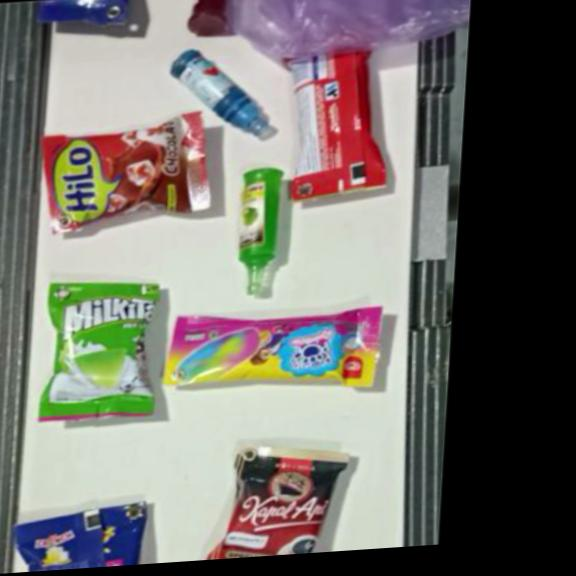Plastik: (39, 109, 217, 233), (159, 303, 382, 401), (274, 45, 394, 200), (39, 275, 161, 421), (208, 441, 351, 560), (225, 0, 473, 61), (165, 42, 273, 141), (13, 499, 147, 572), (235, 164, 284, 295), (35, 0, 133, 30), (186, 0, 231, 36)
